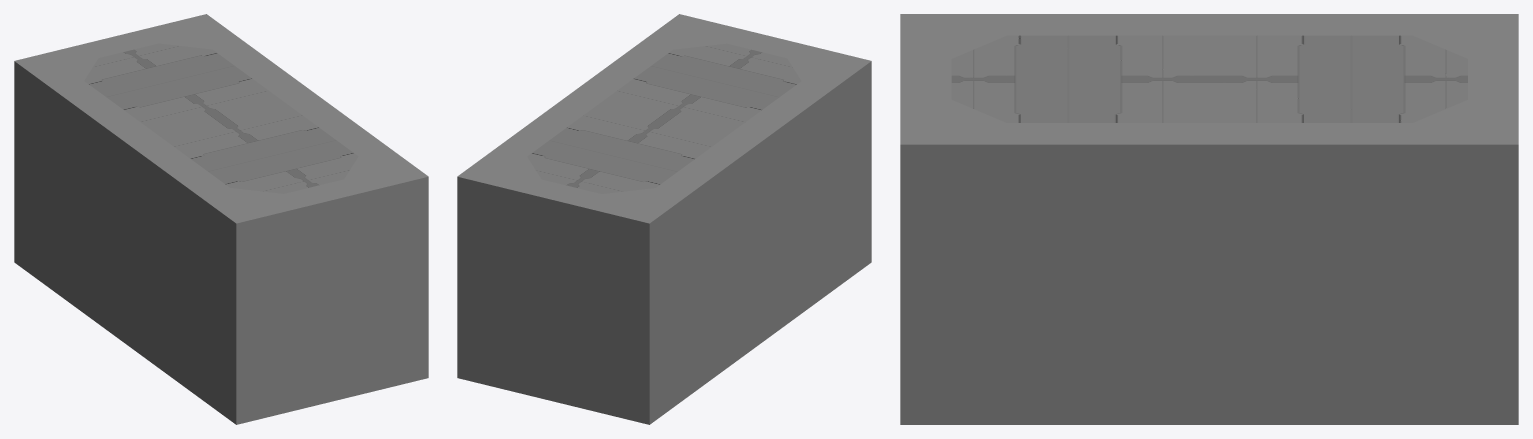
File: SM_Floor_5x10_2.fbx
3 views of the same model, side by side, from view 1: azimuth 30°, elevation 25°; view 2: azimuth 150°, elevation 25°; view 3: azimuth 270°, elevation 25° (orthographic). The views are drawn at different scales.
Parts seen in each view (by area): view 1: SM_Floor_5x10_2; view 2: SM_Floor_5x10_2; view 3: SM_Floor_5x10_2.
Boxes of the visible parts, bbox=[...] form: SM_Floor_5x10_2: bbox=[14, 14, 428, 424]; SM_Floor_5x10_2: bbox=[457, 14, 871, 424]; SM_Floor_5x10_2: bbox=[900, 14, 1518, 424].
Bounding box in the file's own units: 500 × 500 × 1000.
